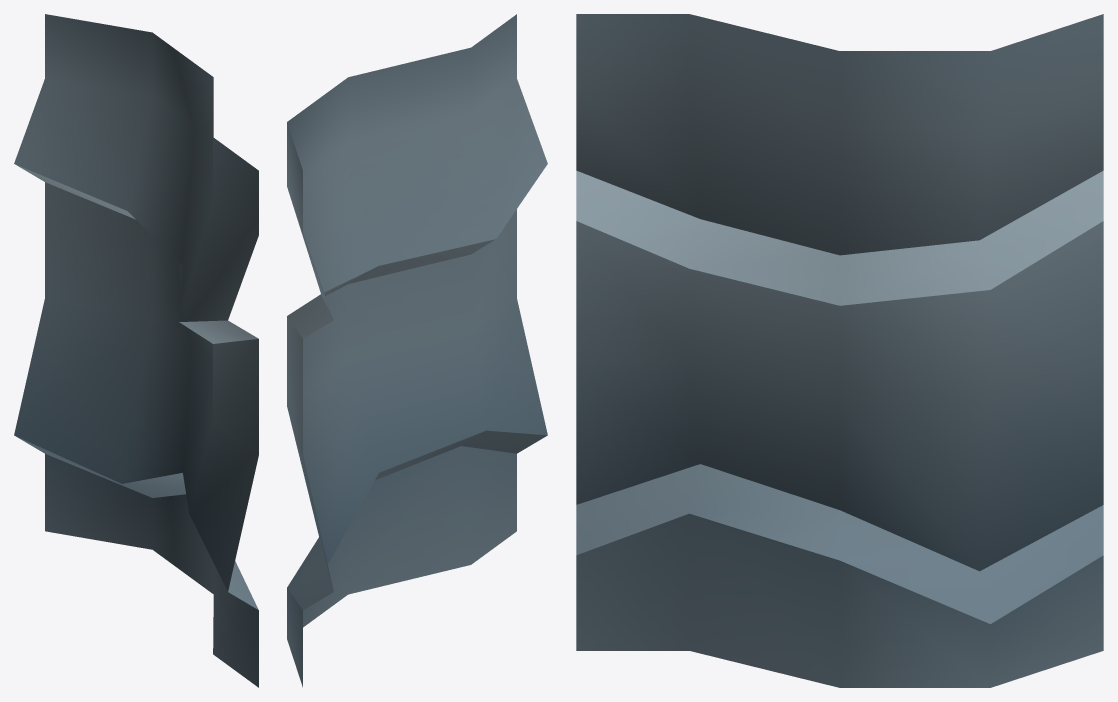
The model's file is Hill_Cliff_Tall_F_Side_Color4.fbx.
3 views of the same model, side by side, from view 1: azimuth 30°, elevation 25°; view 2: azimuth 150°, elevation 25°; view 3: azimuth 270°, elevation 25° (orthographic). The views are drawn at different scales.
Parts seen in each view (by area): view 1: Hill_Cliff_Tall_F_Side_Color4; view 2: Hill_Cliff_Tall_F_Side_Color4; view 3: Hill_Cliff_Tall_F_Side_Color4.
Boxes of the visible parts, x1,y1,x2,y2 form: Hill_Cliff_Tall_F_Side_Color4: (14,14,258,687); Hill_Cliff_Tall_F_Side_Color4: (287,14,547,687); Hill_Cliff_Tall_F_Side_Color4: (576,14,1103,687).
Bounding box in the file's own units: 0.75 × 4 × 3.
